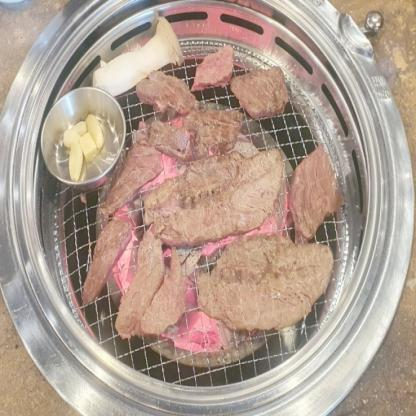Carne: (140, 146, 287, 252), (195, 230, 333, 336), (68, 200, 133, 312), (104, 223, 166, 340), (88, 138, 167, 222), (192, 270, 298, 331), (281, 140, 341, 242), (163, 106, 246, 163), (136, 254, 185, 349), (234, 54, 293, 122), (132, 70, 204, 114), (183, 44, 238, 98)
